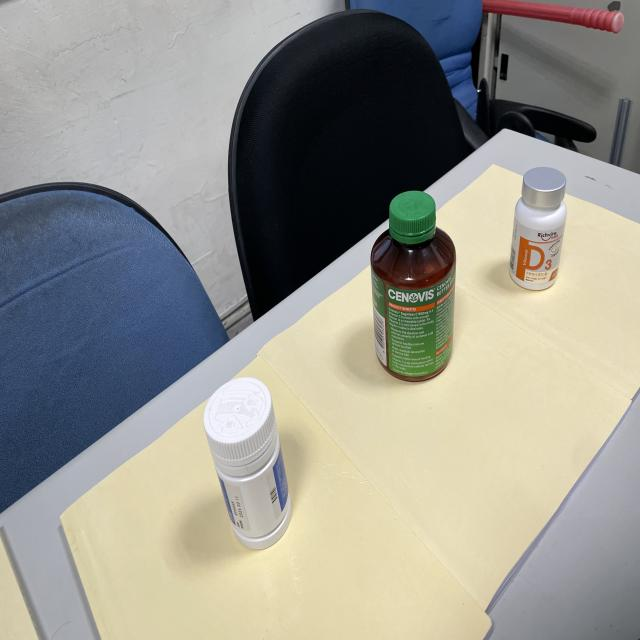Medicine-Jar: (358, 190, 467, 398), (194, 386, 302, 552), (502, 165, 572, 300)
